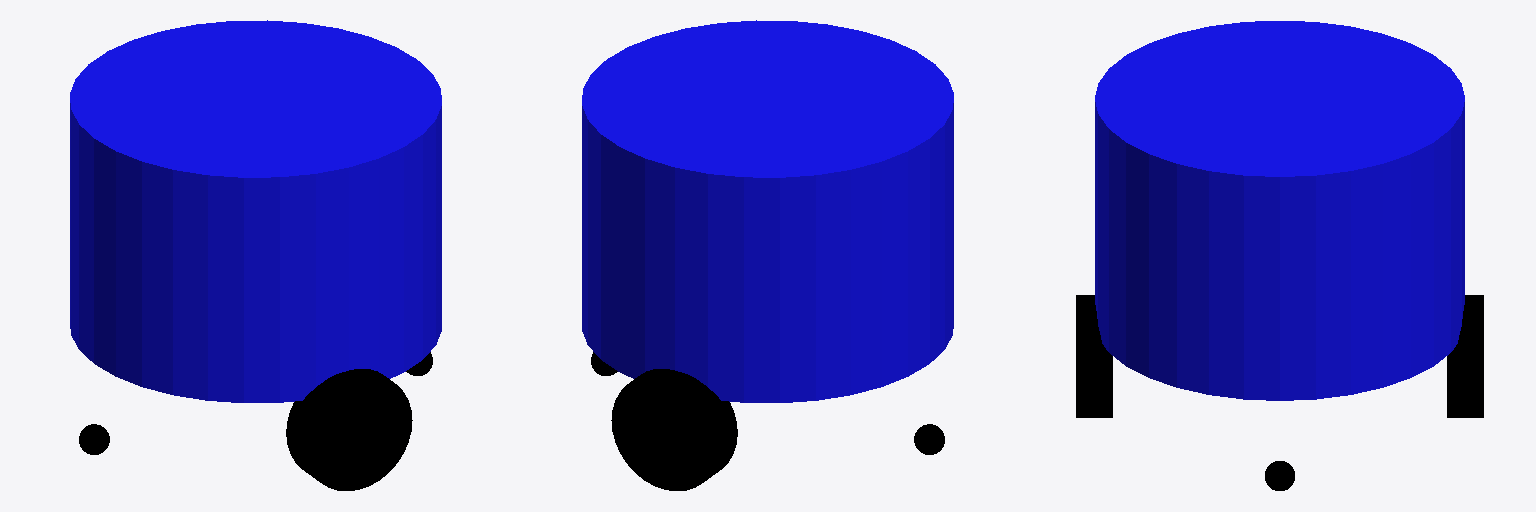
The robot description file, URDF, robot "cleaner_robot":
<?xml version="1.0"?>
<robot name="cleaner_robot">

  
  <!-- 底盘 -->
  <link name="base_link">
    <visual>
      <geometry>
        <cylinder length="0.20" radius="0.15"/>
      </geometry>
    <!--- 颜色 -->
      <material name="blue">
        <color rgba="0.1 0.1 1.0 0.5"/>
      </material>

    </visual>
    <collision>
      <geometry>
        <cylinder length="0.28" radius="0.15"/>
      </geometry>
    </collision>
  </link>

  <!-- 激光雷达 -->
  <link name="laser_link">
    <visual>
      <geometry>
        <cylinder length="0.036" radius="0.026"/>
      </geometry>

      <material name="black">
        <color rgba="0.0 0.0 0.0 0.8" />
      </material>

    </visual>
    <collision>
      <geometry>
        <cylinder length="0.036" radius="0.026"/>
      </geometry>
    </collision>
  </link>

  <joint name="laser_joint" type="fixed">
    <parent link="base_link"/>
    <child link="laser_link"/>
    <origin xyz="0.0 0.0 0.032" rpy="0.0 0.0 2.0943951"/>
  </joint>

  <!-- IMU -->
  <link name="imu_link">
    <visual>
      <geometry>
        <box size="0.03 0.03 0.01"/>
      </geometry>

      <material name="gray">
        <color rgba="0.5 0.5 0.5 1.0"/> 
      </material>
    </visual>
  </link>

  <joint name="imu_joint" type="fixed">
    <parent link="base_link"/>
    <child link="imu_link"/>
    <!-- 根据实际安装位置调整，这里假设放在底盘中心上方 -->
    <origin xyz="0.0 0.0 -0.09" rpy="0.0 0.0 0.0"/>
  </joint>

  <!-- ==================== 左轮 ==================== -->
  <link name="left_wheel_link">
    <visual>
      <geometry>
        <cylinder radius="0.05" length="0.03"/>
      </geometry>
      <material name="black">
        <color rgba="0.0 0.0 0.0 0.8" />
      </material>
    </visual>
    <collision>
      <geometry>
        <cylinder radius="0.05" length="0.03"/>
      </geometry>
      <material name="black">
        <color rgba="0.0 0.0 0.0 0.8" />
      </material>
    </collision>
  </link>

  

  <joint name="left_wheel_joint" type="fixed">
    <parent link="base_link"/>
    <child link="left_wheel_link"/>
    <origin xyz="0 0.15 -0.13" rpy="1.5708 0 0"/>
    <axis xyz="0 1 0"/>
  </joint>

  <!-- ==================== 右轮 ==================== -->
  <link name="right_wheel_link">
    <visual>
      <geometry>
        <cylinder radius="0.05" length="0.03"/>
      </geometry>

      <material name="black">
        <color rgba="0.0 0.0 0.0 0.8" />
      </material>
    </visual>
    <collision>
      <geometry>
        <cylinder radius="0.05" length="0.03"/>
      </geometry>

      <material name="black">
        <color rgba="0.0 0.0 0.0 0.8" />
      </material>
    </collision>
  </link>

  <joint name="right_wheel_joint" type="fixed">
    <parent link="base_link"/>
    <child link="right_wheel_link"/>
    <origin xyz="0 -0.15 -0.13" rpy="1.5708 0 0"/>
    <axis xyz="0 1 0"/>
  </joint>

  <!-- ==================== 前轮万向轮 ==================== -->
  <link name="front_caster_link">
    <visual>
      <geometry>
        <sphere radius="0.0125" />
      </geometry>

      <material name="black">
        <color rgba="0.0 0.0 0.0 0.8"/>
      </material>

    </visual>
    <collision>
      <geometry>
        <sphere radius="0.0125" />
      </geometry>

      <material name="black">
        <color rgba="0.0 0.0 0.0 0.8"/>
      </material>
    </collision>
  </link>

  

  <joint name="front_caster_joint" type="fixed">
    <parent link="base_link"/>
    <child link="front_caster_link"/>
    <origin xyz="0.15 0.0 -0.167" rpy="0 0 0"/>
    <axis xyz="0 0 0"/>
  </joint>

  <!-- ==================== 后轮万向轮 ==================== -->
  <link name="back_caster_link">
    <visual>
      <geometry>
        <sphere radius="0.0125" />
      </geometry>

      <material name="black">
        <color rgba="0.0 0.0 0.0 0.8"/>
      </material>
    </visual>
    <collision>
      <geometry>
        <sphere radius="0.0125" />
      </geometry>

      <material name="black">
        <color rgba="0.0 0.0 0.0 0.8"/>
      </material>
    </collision>
  </link>

  <joint name="back_caster_joint" type="fixed">
    <parent link="base_link"/>
    <child link="back_caster_link"/>
    <origin xyz="-0.15 0.0 -0.167" rpy="0 0 0"/>
    <axis xyz="0 0 0"/>
  </joint>

</robot>

--- What the picture shows (computed from the rendered views, not written in the file) ---
3 views of the same robot in one strip: view 1: azimuth 30°, elevation 25°; view 2: azimuth 150°, elevation 25°; view 3: azimuth 270°, elevation 25° (orthographic).
Model cleaner_robot with 7 links and 6 joints (6 fixed), rooted at base_link, posed every joint at zero.
Visible links, largest first — view 1: base_link, right_wheel_link, back_caster_link; view 2: base_link, left_wheel_link, back_caster_link; view 3: base_link, left_wheel_link, right_wheel_link, front_caster_link.
Link boxes in pixels (bbox=[...]): base_link: bbox=[70, 20, 441, 402]; right_wheel_link: bbox=[286, 369, 412, 490]; back_caster_link: bbox=[79, 424, 109, 454]; base_link: bbox=[582, 20, 953, 402]; left_wheel_link: bbox=[611, 369, 737, 490]; back_caster_link: bbox=[914, 424, 944, 454]; base_link: bbox=[1095, 21, 1464, 400]; left_wheel_link: bbox=[1447, 295, 1483, 417]; right_wheel_link: bbox=[1076, 295, 1112, 417]; front_caster_link: bbox=[1265, 461, 1294, 490].
Size in the robot's own frame: 0.325 by 0.33 by 0.28 metres.
Geometry: primitives only (box / cylinder / sphere), no mesh files.
